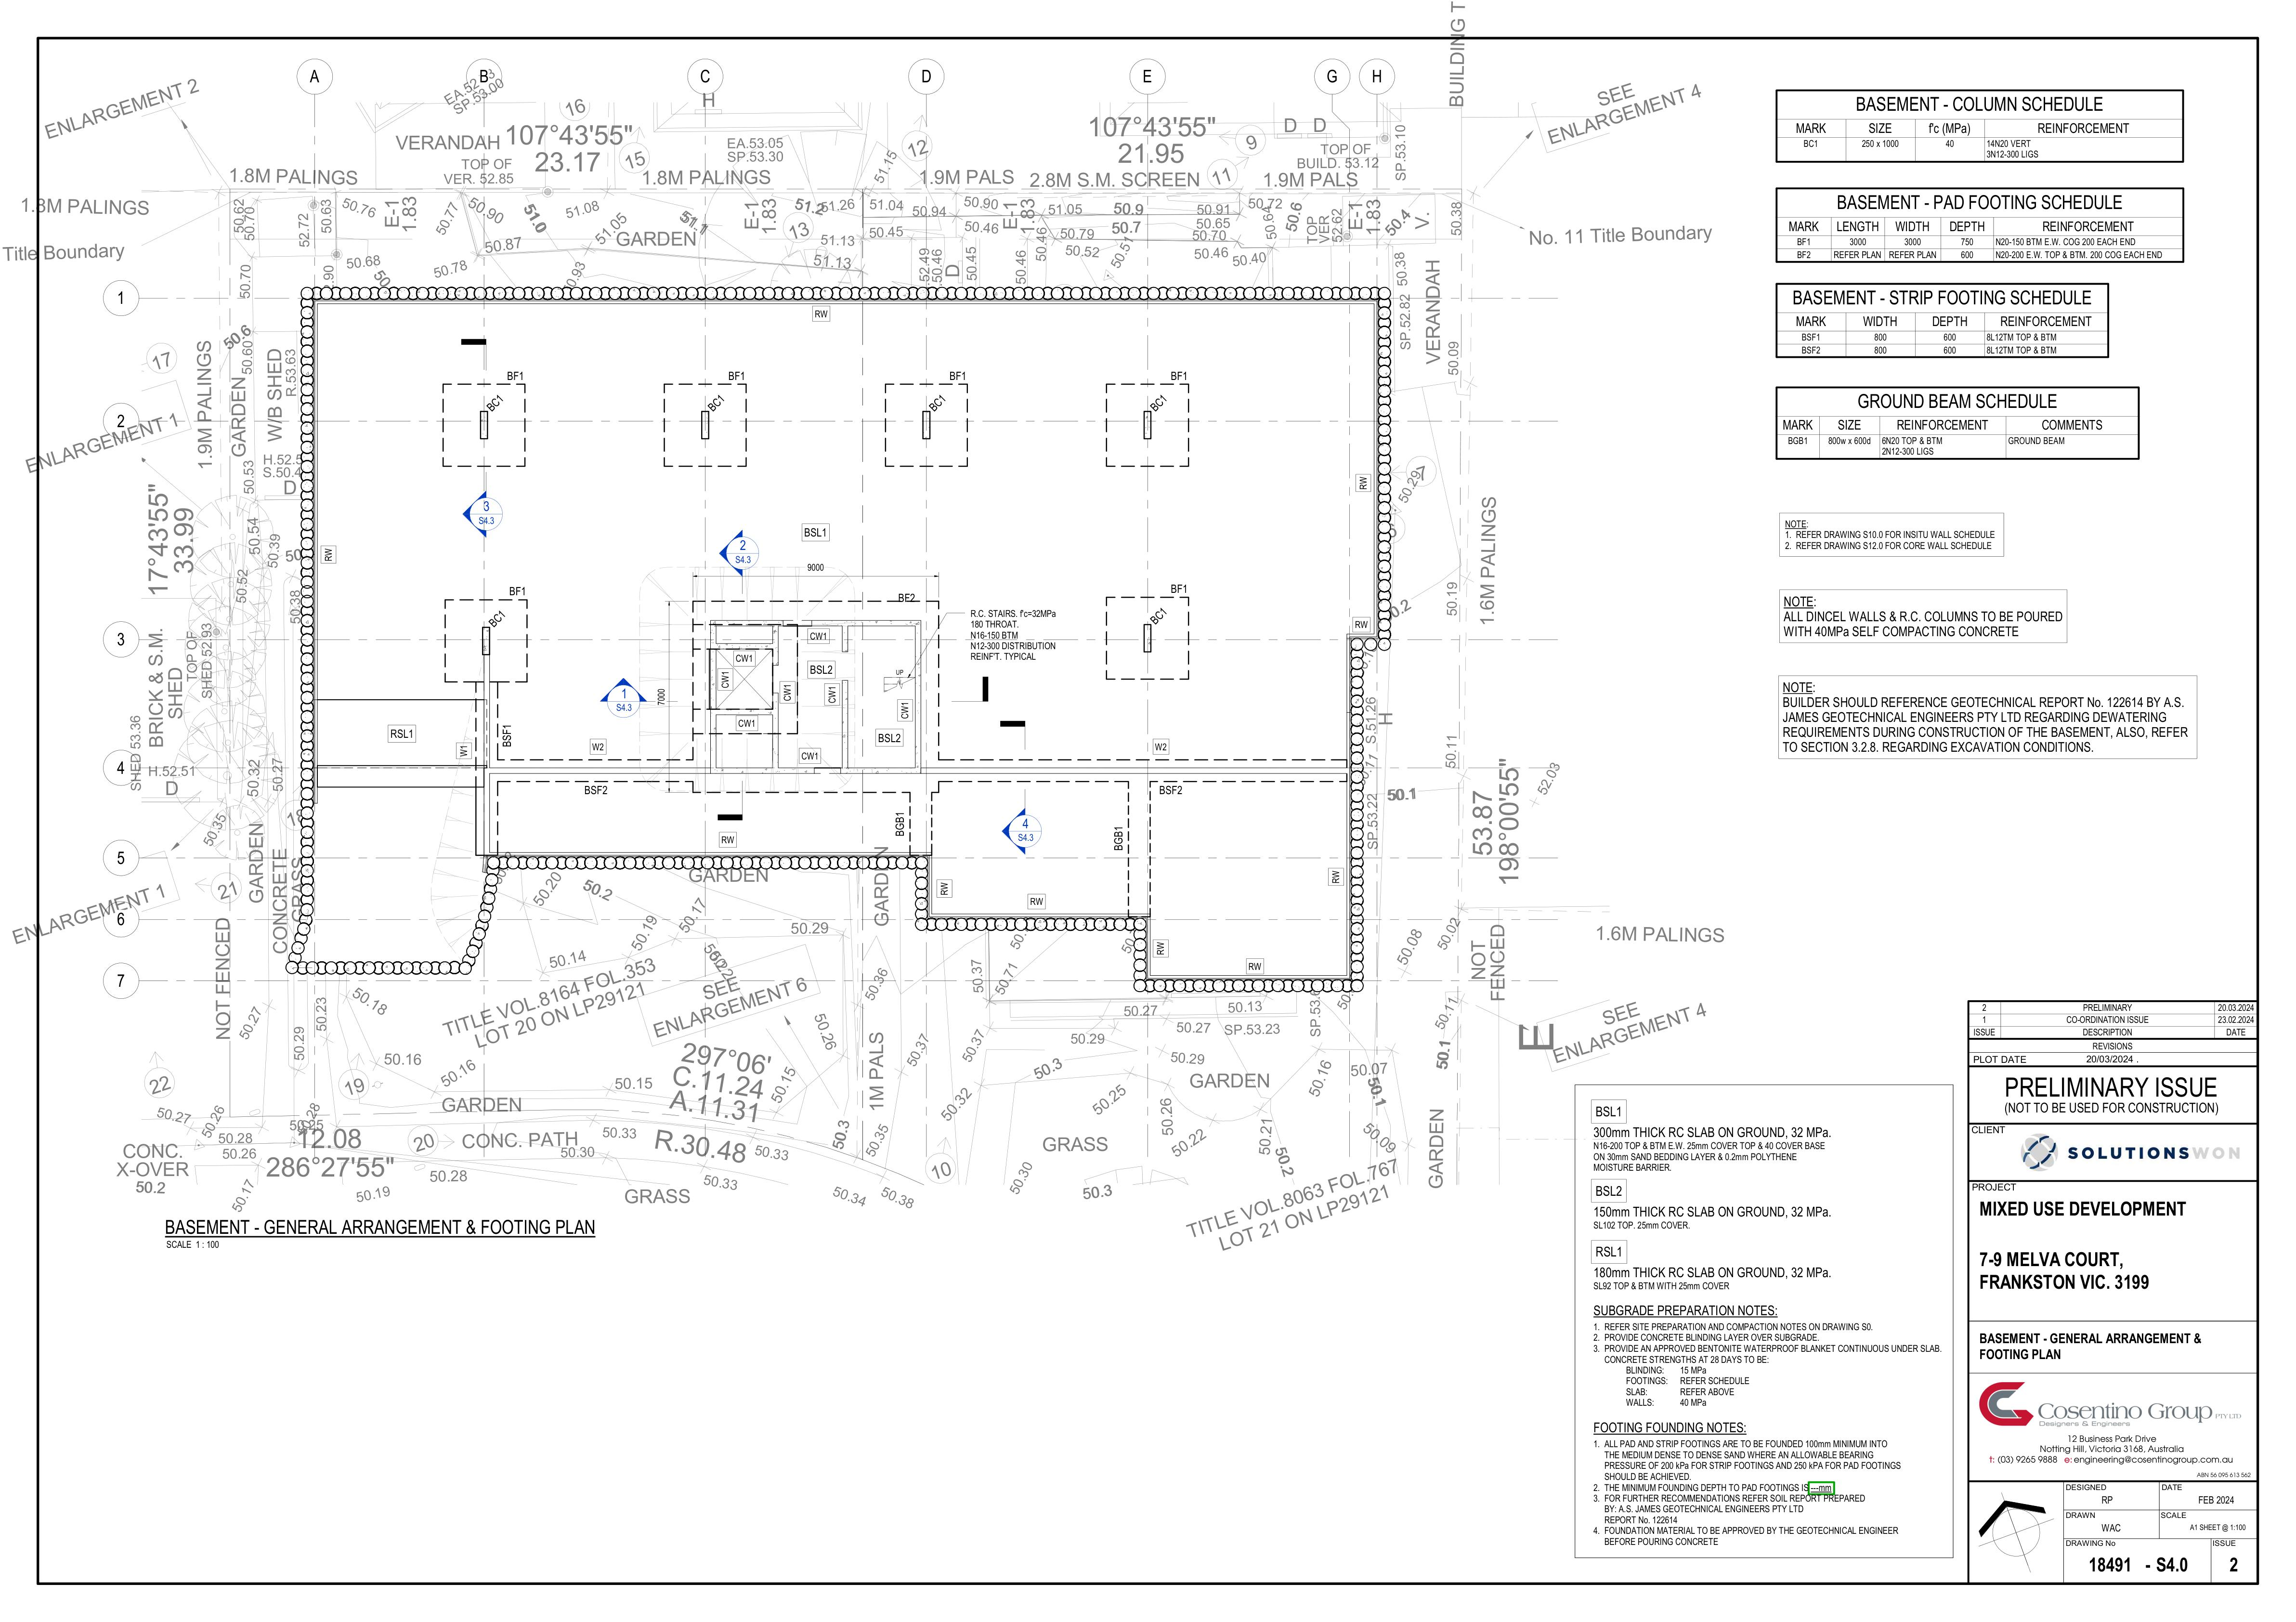BC1: (1148, 604, 1173, 627), (484, 393, 507, 413), (1150, 395, 1173, 413), (929, 395, 951, 411), (488, 611, 506, 627), (709, 397, 727, 411)
BF1: (1166, 574, 1195, 597), (502, 579, 532, 599), (721, 363, 748, 384), (944, 370, 974, 388), (1167, 367, 1195, 384), (502, 367, 528, 383)
BF2: (892, 586, 922, 604)
BGB1: (1109, 818, 1129, 858), (890, 807, 911, 837)
BSF1: (497, 716, 518, 751)
BSF2: (1157, 779, 1187, 802), (578, 781, 614, 799)
BSL1: (795, 518, 841, 548)
BSL2: (874, 725, 906, 748), (804, 662, 839, 678)
CW1: (730, 716, 765, 736), (893, 700, 918, 725), (716, 669, 737, 693), (734, 646, 760, 665), (795, 743, 823, 760), (779, 681, 799, 706), (807, 627, 834, 644), (827, 683, 843, 707)
RSL1: (381, 723, 421, 746)
RW: (314, 537, 344, 569), (936, 874, 960, 902), (809, 304, 841, 325), (1243, 953, 1269, 978), (1155, 936, 1174, 962), (1325, 862, 1345, 886), (1352, 613, 1374, 632), (1357, 470, 1374, 493), (1027, 894, 1055, 908), (718, 832, 739, 848)
W1: (449, 744, 474, 760)
W2: (588, 736, 611, 757), (1152, 737, 1173, 755)
